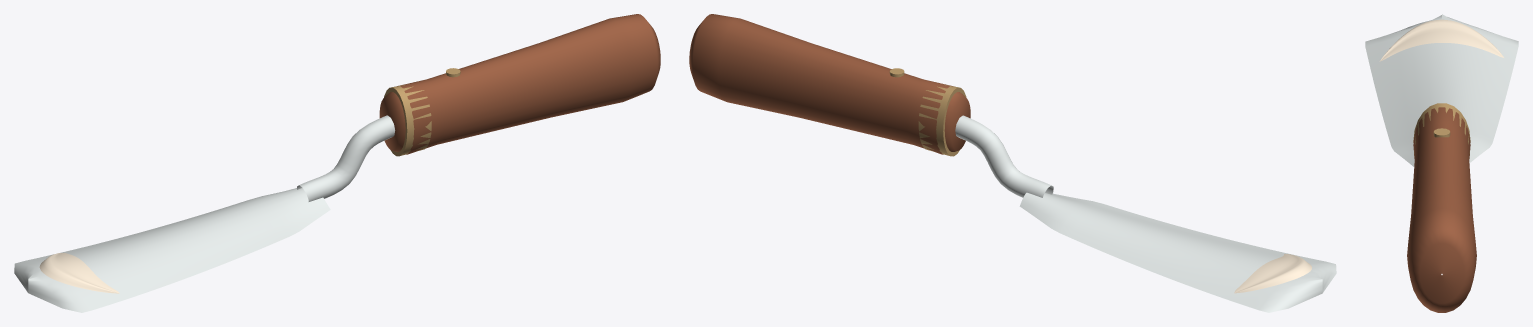
The model's file is palette-knife.glb.
3 views of the same model, side by side, from view 1: azimuth 30°, elevation 25°; view 2: azimuth 150°, elevation 25°; view 3: azimuth 270°, elevation 25° (orthographic). The views are drawn at different scales.
Bounding box in the file's own units: 0.8808 × 0.1751 × 0.164.
